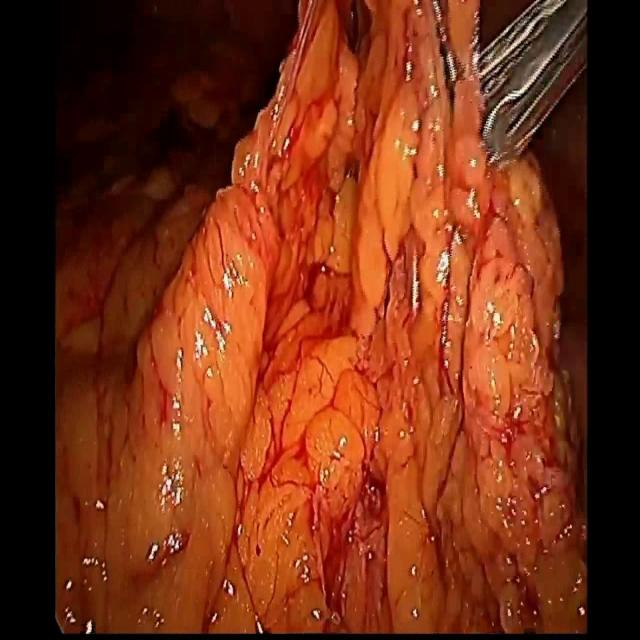surgical-area: (54, 0, 587, 633)
surgical-tool: (477, 0, 588, 172)
